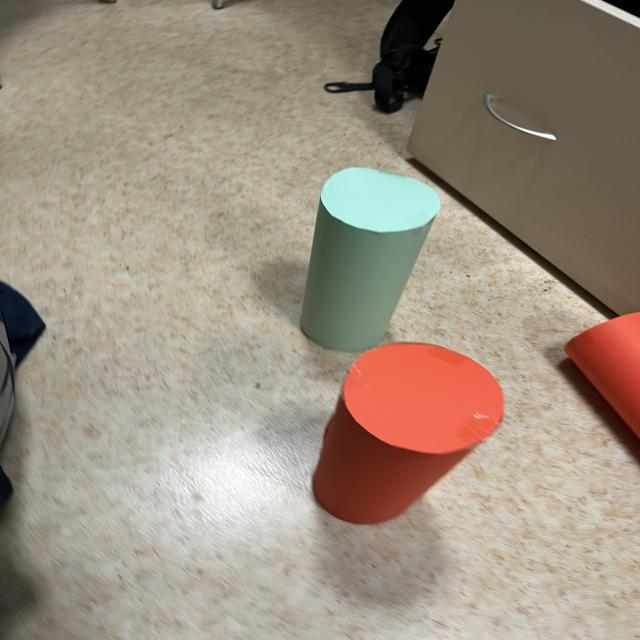meta: (301, 167, 440, 351)
przeszkoda: (313, 343, 504, 524)
